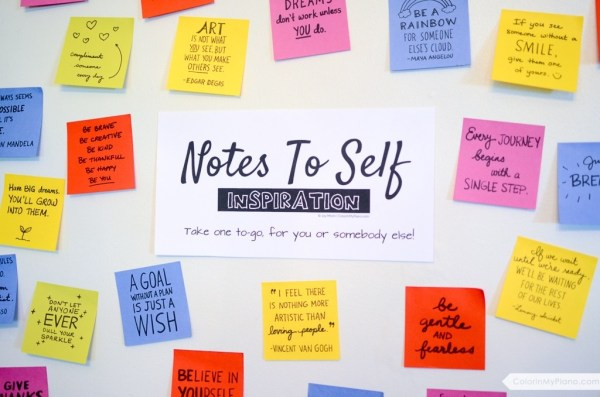stickynote: (493, 235, 595, 344), (451, 118, 548, 211), (489, 7, 582, 93), (403, 284, 490, 375), (164, 14, 251, 99), (259, 278, 341, 363), (19, 280, 102, 362), (115, 260, 193, 345), (54, 14, 134, 92), (387, 1, 472, 74), (64, 111, 136, 195), (266, 1, 357, 61), (1, 173, 62, 249), (169, 348, 246, 397), (556, 140, 600, 225), (1, 86, 45, 157), (1, 364, 48, 397), (1, 251, 20, 321)
